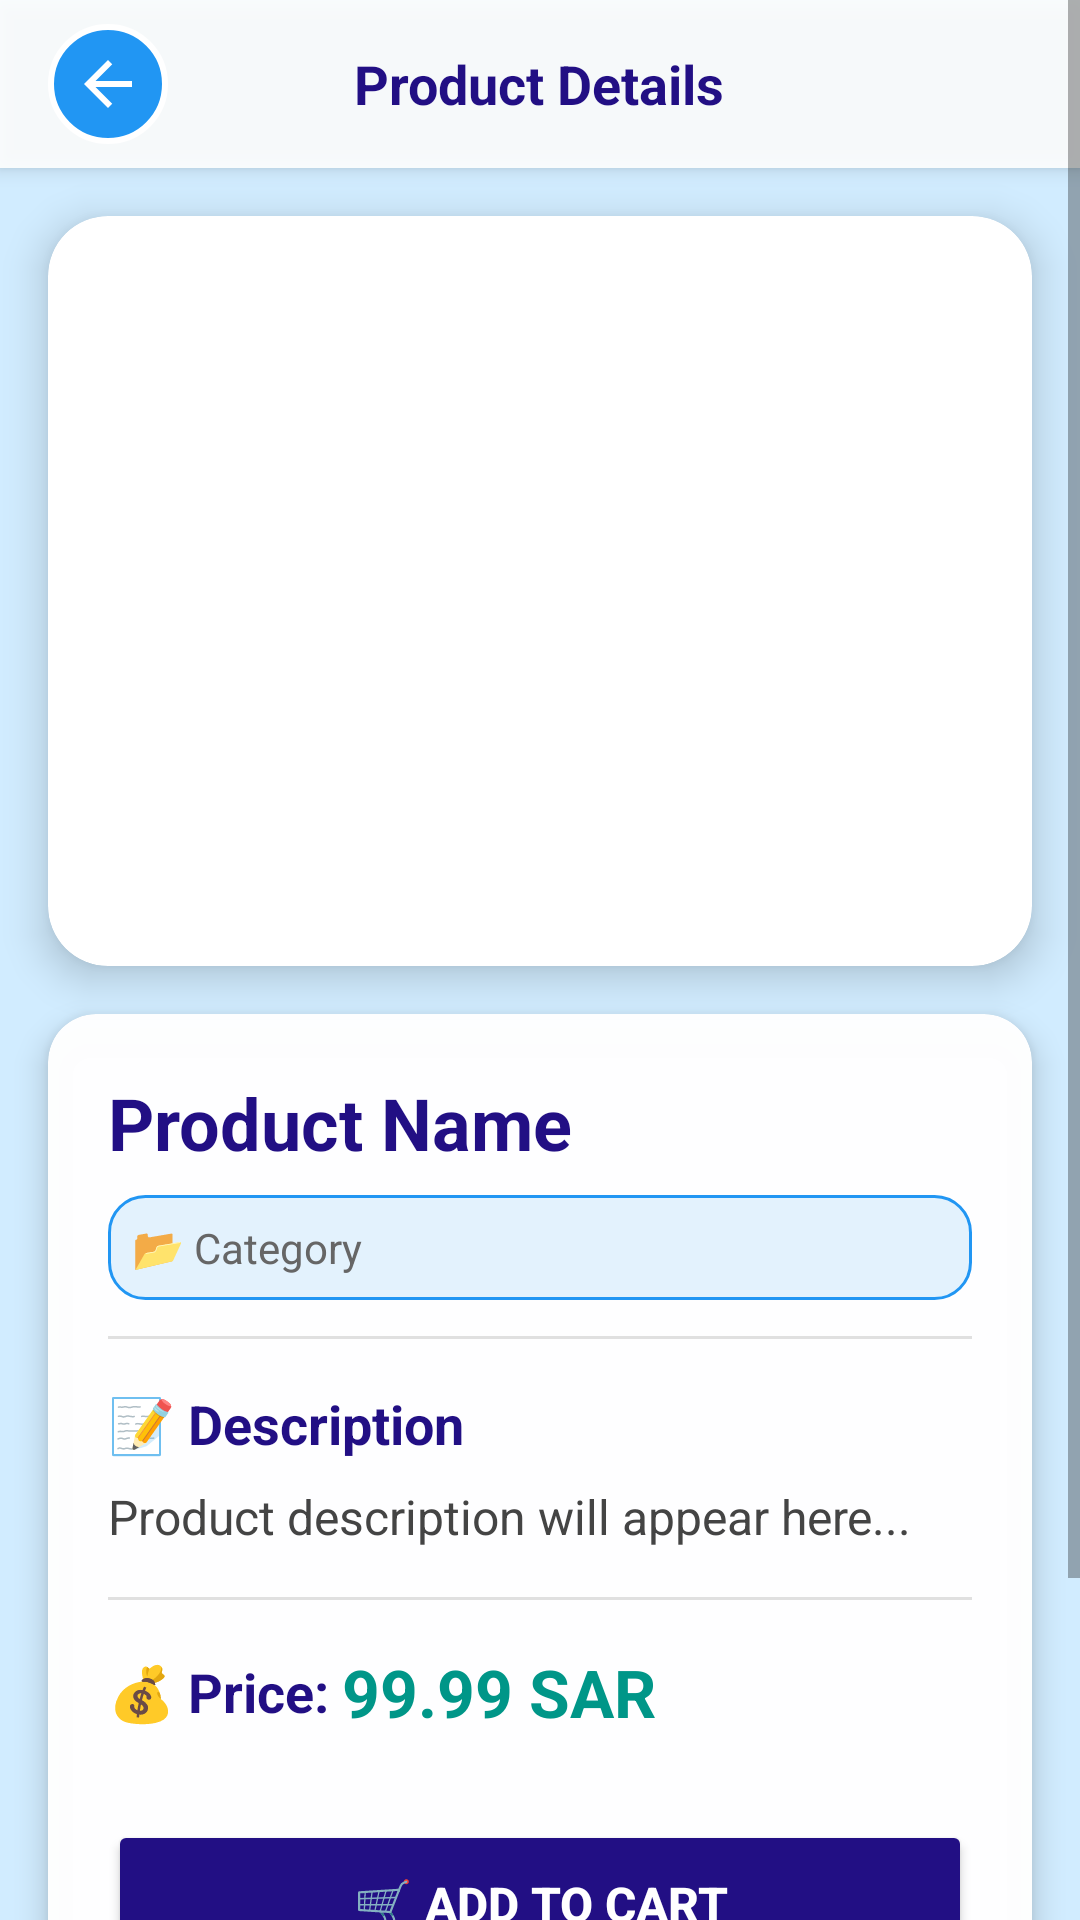

Named icons in this screenshot (1080px x 1920px) and their bounding boxes, (x1, y1, x2, y2):
Back: (54, 30, 162, 138)
